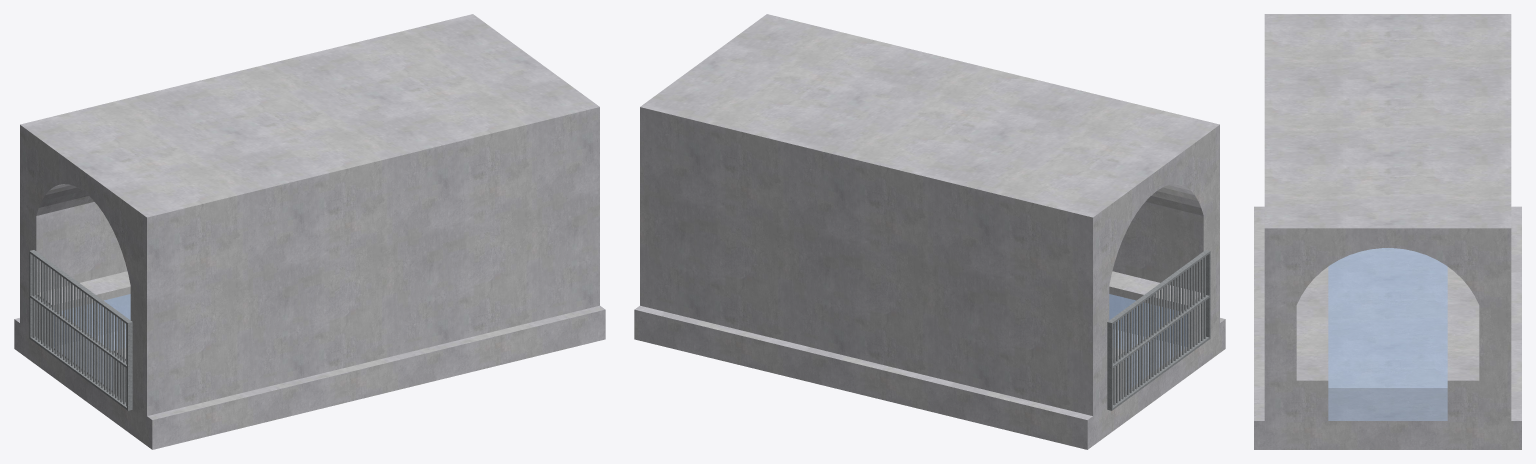
Rendered from reixa_horitzontal.glb.
3 views of the same model, side by side, from view 1: azimuth 30°, elevation 25°; view 2: azimuth 150°, elevation 25°; view 3: azimuth 270°, elevation 25° (orthographic). The views are drawn at different scales.
Parts seen in each view (by area): view 1: T_nel_formig____T_nel_formig__1108559__3D__1_1, Llosa_t_nel___Llosa_t_nel_1108943__3D__1_1, Reixa___Reixa_1110386__3D__2_1, Aigua___Aigua_1112827__3D__2_1; view 2: T_nel_formig____T_nel_formig__1108559__3D__1_1, Llosa_t_nel___Llosa_t_nel_1108943__3D__1_1, Reixa___Reixa_1110386__3D__2_1, Aigua___Aigua_1112827__3D__2_1; view 3: T_nel_formig____T_nel_formig__1108559__3D__1_1, Llosa_t_nel___Llosa_t_nel_1108943__3D__1_1, Aigua___Aigua_1112827__3D__2_1.
Part boxes in pixels (x1,y1,x2,y2): T_nel_formig____T_nel_formig__1108559__3D__1_1: (20, 14, 599, 415); Llosa_t_nel___Llosa_t_nel_1108943__3D__1_1: (14, 271, 605, 449); Reixa___Reixa_1110386__3D__2_1: (29, 250, 132, 410); Aigua___Aigua_1112827__3D__2_1: (54, 294, 130, 389); T_nel_formig____T_nel_formig__1108559__3D__1_1: (640, 14, 1219, 415); Llosa_t_nel___Llosa_t_nel_1108943__3D__1_1: (634, 271, 1225, 449); Reixa___Reixa_1110386__3D__2_1: (1107, 250, 1210, 410); Aigua___Aigua_1112827__3D__2_1: (1109, 294, 1187, 390); T_nel_formig____T_nel_formig__1108559__3D__1_1: (1264, 14, 1511, 420); Llosa_t_nel___Llosa_t_nel_1108943__3D__1_1: (1254, 206, 1521, 449); Aigua___Aigua_1112827__3D__2_1: (1328, 248, 1447, 420).
Bounding box in the file's own units: 4.83 × 2.3 × 2.52.
4 materials, 3 textured.
